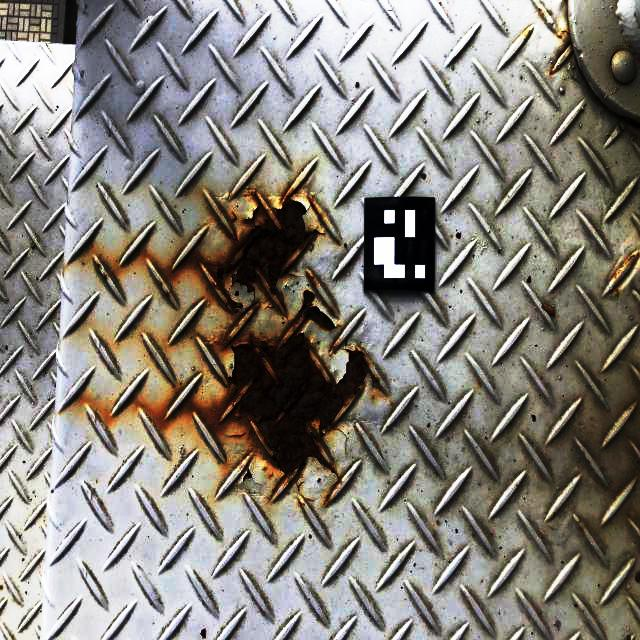Corrosion: (166, 288, 369, 506), (176, 182, 321, 333), (607, 243, 639, 287)
